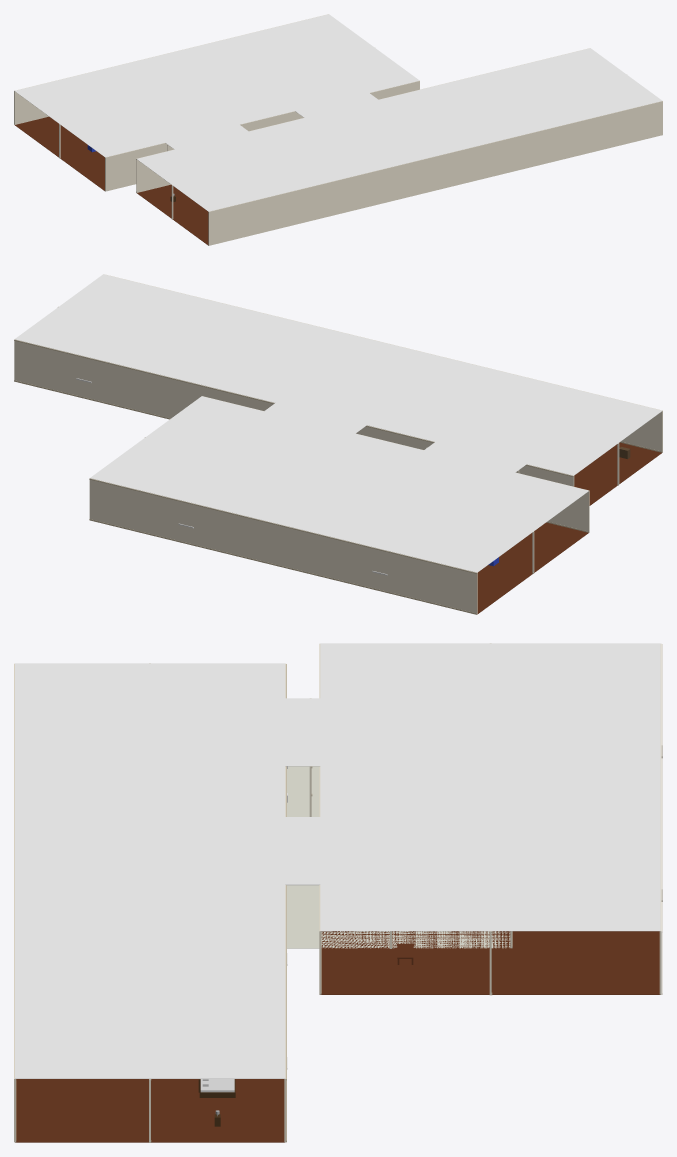
File: ultra_detailed_7235.obj
3 renders of one model, top to bottom at view 1: azimuth 30°, elevation 25°; view 2: azimuth 150°, elevation 25°; view 3: azimuth 270°, elevation 25°, orthographic. The views are drawn at different scales.
Parts seen in each view (by area): view 1: Living_Room_1_ceiling_Living_Room_1_ceiling_material, Living_Room_2_ceiling_Living_Room_2_ceiling_material, Bedroom_1_ceiling_Bedroom_1_ceiling_material, Bedroom_4_ceiling_Bedroom_4_ceiling_material, Bedroom_2_ceiling_Bedroom_2_ceiling_material, Bedroom_3_ceiling_Bedroom_3_ceiling_material, Bedroom_1_front_wall_Bedroom_1_front_wall_material, Bedroom_4_front_wall_Bedroom_4_front_wall_material, Bedroom_2_front_wall_Bedroom_2_front_wall_material, Bedroom_3_front_wall_Bedroom_3_front_wall_material, Living_Room_1_floor_Living_Room_1_floor_material, Bedroom_1_floor_Bedroom_1_floor_material (+7 smaller); view 2: Living_Room_1_ceiling_Living_Room_1_ceiling_material, Living_Room_2_ceiling_Living_Room_2_ceiling_material, Bedroom_4_ceiling_Bedroom_4_ceiling_material, Bedroom_3_ceiling_Bedroom_3_ceiling_material, Bedroom_1_ceiling_Bedroom_1_ceiling_material, Bedroom_2_ceiling_Bedroom_2_ceiling_material, Living_Room_1_back_wall_Living_Room_1_back_wall_material, Living_Room_2_back_wall_Living_Room_2_back_wall_material, Kitchen_1_ceiling_Kitchen_1_ceiling_material, Bedroom_4_back_wall_Bedroom_4_back_wall_material, Living_Room_1_floor_Living_Room_1_floor_material, Bedroom_1_floor_Bedroom_1_floor_material (+8 smaller); view 3: Living_Room_1_ceiling_Living_Room_1_ceiling_material, Living_Room_2_ceiling_Living_Room_2_ceiling_material, Bedroom_1_ceiling_Bedroom_1_ceiling_material, Bedroom_4_ceiling_Bedroom_4_ceiling_material, Bedroom_3_ceiling_Bedroom_3_ceiling_material, Bedroom_2_ceiling_Bedroom_2_ceiling_material, Living_Room_2_floor_Living_Room_2_floor_material, Bedroom_4_floor_Bedroom_4_floor_material, Kitchen_1_ceiling_Kitchen_1_ceiling_material, Kitchen_1_floor_Kitchen_1_floor_material, Bathroom_2_ceiling_Bathroom_2_ceiling_material, Bathroom_3_ceiling_Bathroom_3_ceiling_material (+1 smaller).
Boxes of the visible parts, <box> form: Living_Room_1_ceiling_Living_Room_1_ceiling_material: <box>15,52,261,157</box>; Living_Room_2_ceiling_Living_Room_2_ceiling_material: <box>172,14,419,118</box>; Bedroom_1_ceiling_Bedroom_1_ceiling_material: <box>137,131,321,211</box>; Bedroom_4_ceiling_Bedroom_4_ceiling_material: <box>477,48,662,128</box>; Bedroom_2_ceiling_Bedroom_2_ceiling_material: <box>250,103,435,183</box>; Bedroom_3_ceiling_Bedroom_3_ceiling_material: <box>364,76,548,156</box>; Bedroom_1_front_wall_Bedroom_1_front_wall_material: <box>208,184,322,245</box>; Bedroom_4_front_wall_Bedroom_4_front_wall_material: <box>549,101,662,162</box>; Bedroom_2_front_wall_Bedroom_2_front_wall_material: <box>322,156,435,217</box>; Bedroom_3_front_wall_Bedroom_3_front_wall_material: <box>436,129,549,190</box>; Living_Room_1_floor_Living_Room_1_floor_material: <box>15,116,104,190</box>; Bedroom_1_floor_Bedroom_1_floor_material: <box>137,184,208,245</box>; Living_Room_1_ceiling_Living_Room_1_ceiling_material: <box>284,443,588,572</box>; Living_Room_2_ceiling_Living_Room_2_ceiling_material: <box>90,396,394,525</box>; Bedroom_4_ceiling_Bedroom_4_ceiling_material: <box>15,274,242,373</box>; Bedroom_3_ceiling_Bedroom_3_ceiling_material: <box>154,308,382,403</box>; Bedroom_1_ceiling_Bedroom_1_ceiling_material: <box>434,376,662,475</box>; Bedroom_2_ceiling_Bedroom_2_ceiling_material: <box>299,342,522,441</box>; Living_Room_1_back_wall_Living_Room_1_back_wall_material: <box>283,525,477,614</box>; Living_Room_2_back_wall_Living_Room_2_back_wall_material: <box>89,478,283,565</box>; Kitchen_1_ceiling_Kitchen_1_ceiling_material: <box>204,399,371,471</box>; Bedroom_4_back_wall_Bedroom_4_back_wall_material: <box>14,339,153,414</box>; Living_Room_1_floor_Living_Room_1_floor_material: <box>477,522,588,614</box>; Bedroom_1_floor_Bedroom_1_floor_material: <box>574,442,661,505</box>; Living_Room_1_ceiling_Living_Room_1_ceiling_material: <box>320,643,660,787</box>; Living_Room_2_ceiling_Living_Room_2_ceiling_material: <box>320,787,660,931</box>; Bedroom_1_ceiling_Bedroom_1_ceiling_material: <box>15,663,285,767</box>; Bedroom_4_ceiling_Bedroom_4_ceiling_material: <box>15,975,285,1078</box>; Bedroom_3_ceiling_Bedroom_3_ceiling_material: <box>15,871,285,974</box>; Bedroom_2_ceiling_Bedroom_2_ceiling_material: <box>15,767,285,870</box>; Living_Room_2_floor_Living_Room_2_floor_material: <box>320,931,660,994</box>; Bedroom_4_floor_Bedroom_4_floor_material: <box>15,1079,284,1142</box>; Kitchen_1_ceiling_Kitchen_1_ceiling_material: <box>270,817,511,885</box>; Kitchen_1_floor_Kitchen_1_floor_material: <box>287,885,510,948</box>; Bathroom_2_ceiling_Bathroom_2_ceiling_material: <box>270,698,350,732</box>; Bathroom_3_ceiling_Bathroom_3_ceiling_material: <box>281,732,350,766</box>.
Size of the model in its own units: 51.45 by 3.87 by 32.35.
